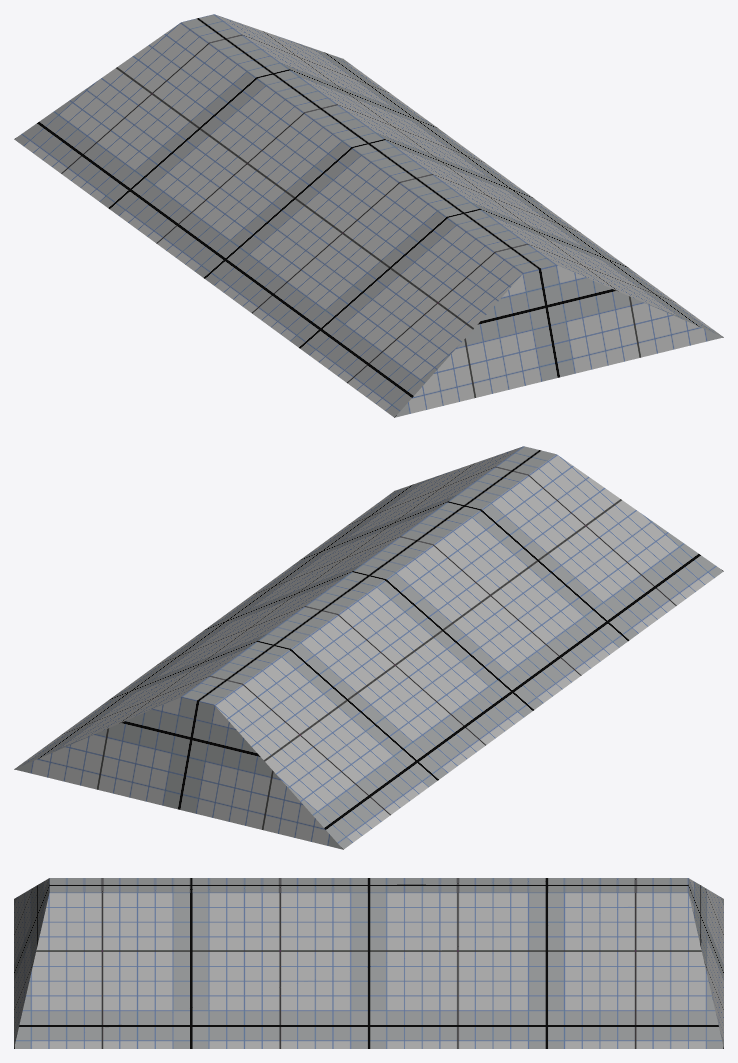
File: gm_bump.dae
3 views of the same model, one above another, from view 1: azimuth 30°, elevation 25°; view 2: azimuth 150°, elevation 25°; view 3: azimuth 270°, elevation 25° (orthographic). The views are drawn at different scales.
Parts seen in each view (by area): view 1: ind_bld_c70; view 2: ind_bld_c70; view 3: ind_bld_c70.
Boxes of the visible parts, box(x1,y1,x2,y2) form: ind_bld_c70: box(14, 14, 723, 417); ind_bld_c70: box(14, 446, 723, 849); ind_bld_c70: box(14, 878, 723, 1048).
Bounding box in the file's own units: 2 × 4 × 0.55.
